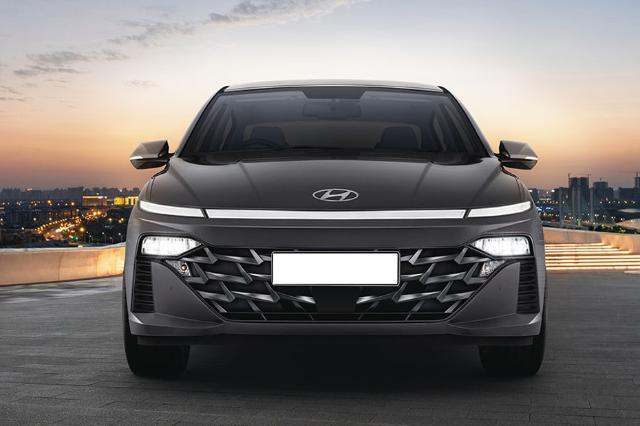hyundai: (121, 78, 546, 378)
